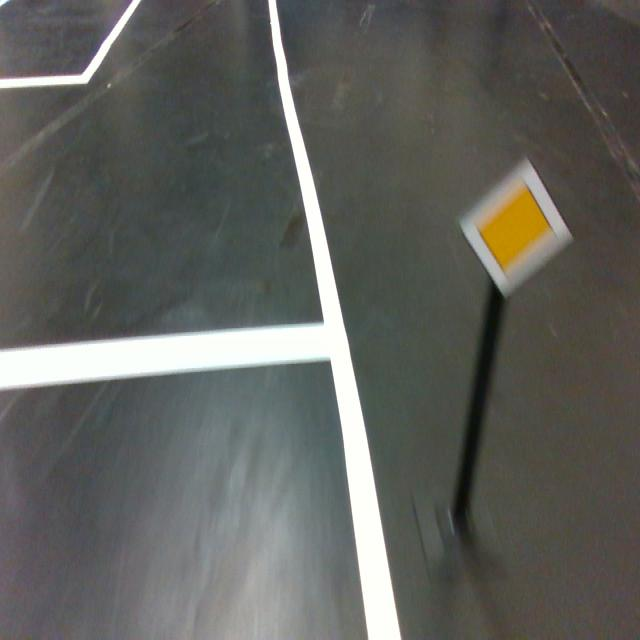priority-sign: (457, 152, 574, 302)
